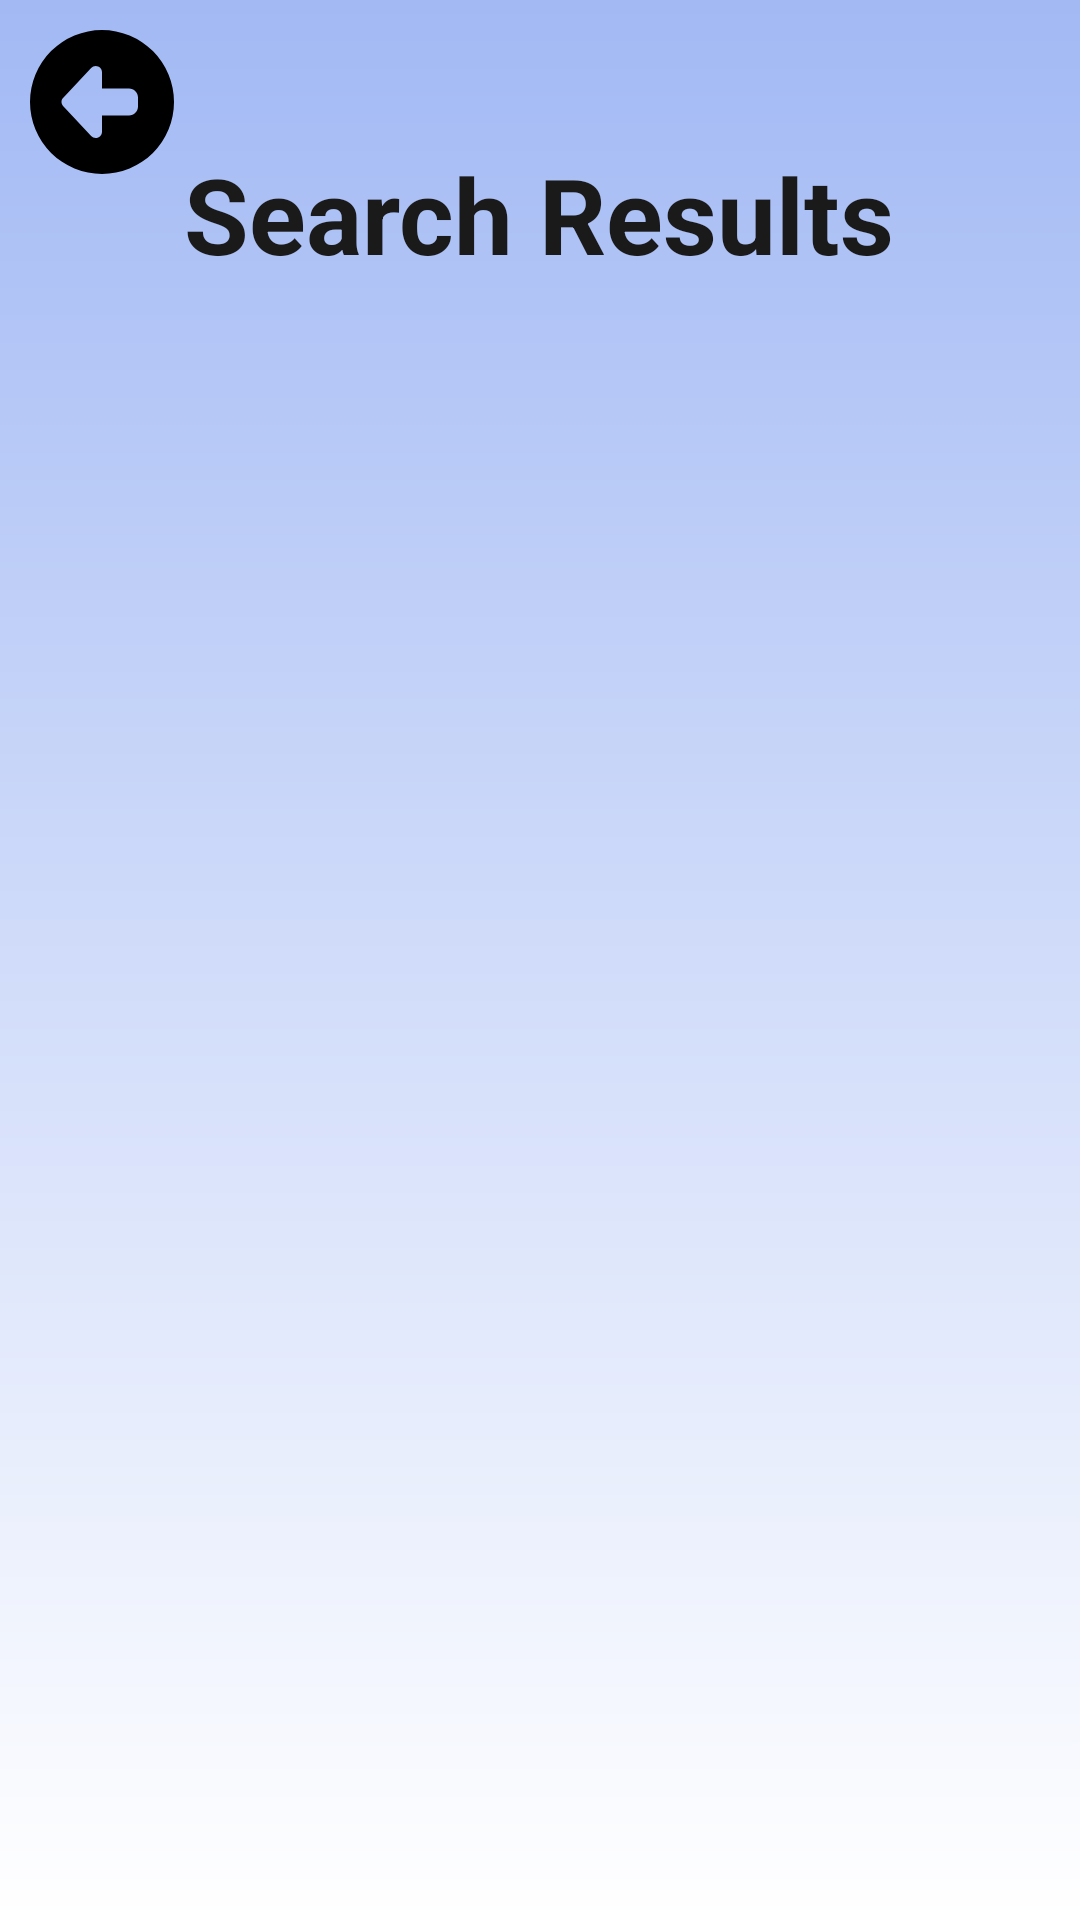

Icons on this 1080*1920 Android screen, each with the point to tap as (x=x, y=y):
circle left: (x=102, y=102)
